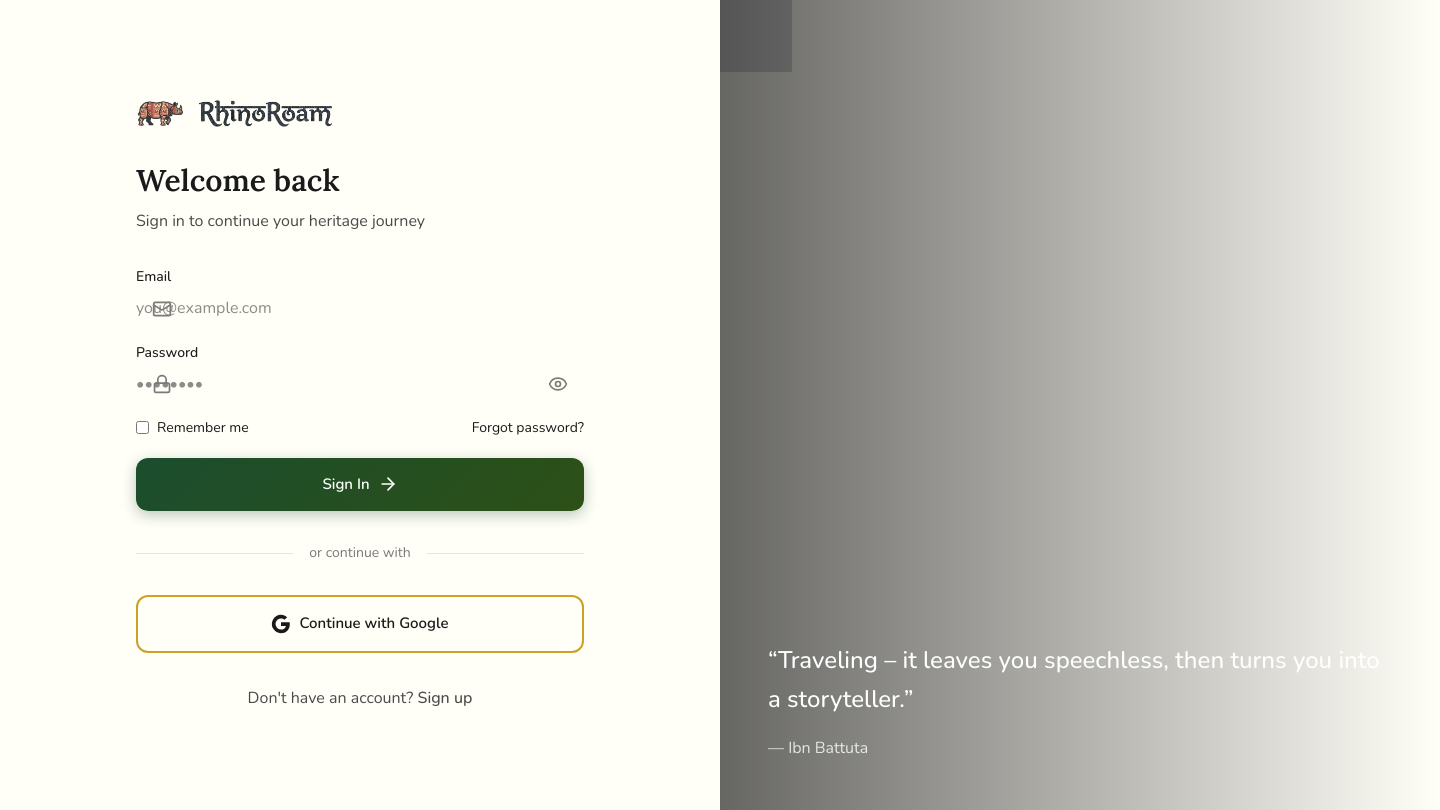
Test: SignInPage › displays error on failed login
The image size is (1440, 810).
Type "wrong@example.com" into the field with placeholder "you@example.com". click: (238, 309)
box: [136,295,340,322]
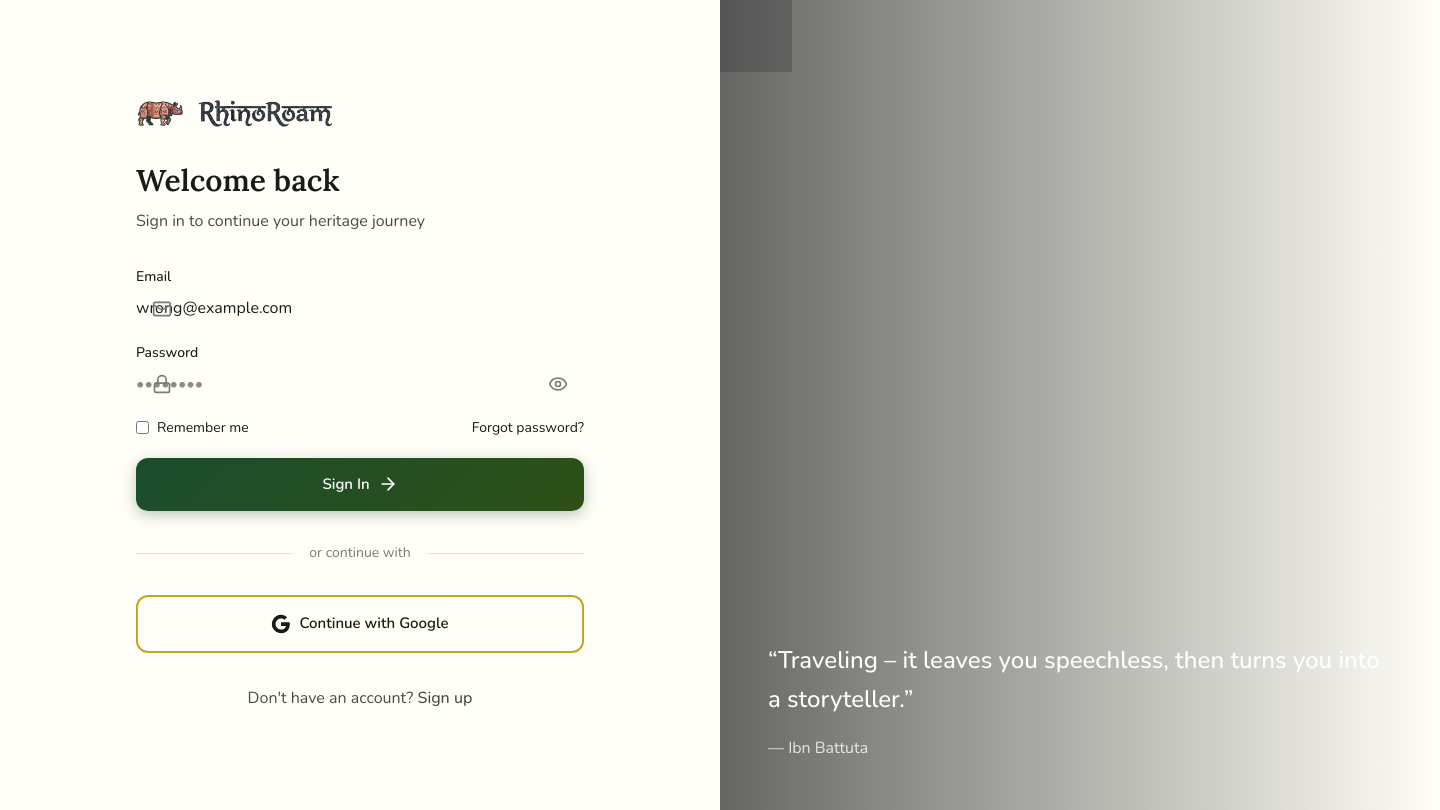
Type "wrongpass" into the password field with placeholder "••••••••". click: (238, 384)
box: [136,370,340,398]
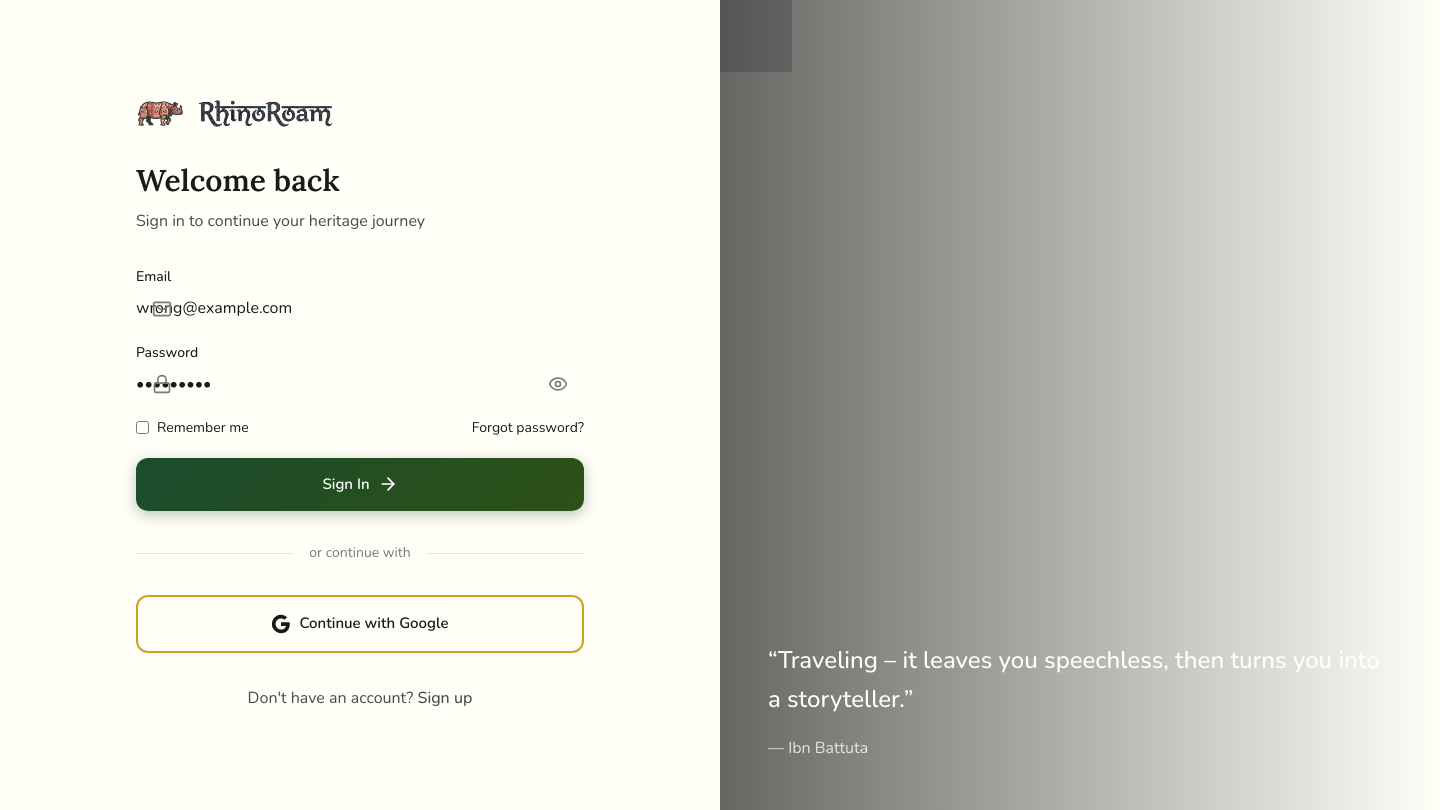
Click the button "Sign In". click: (360, 484)
box: [136,458,584,511]
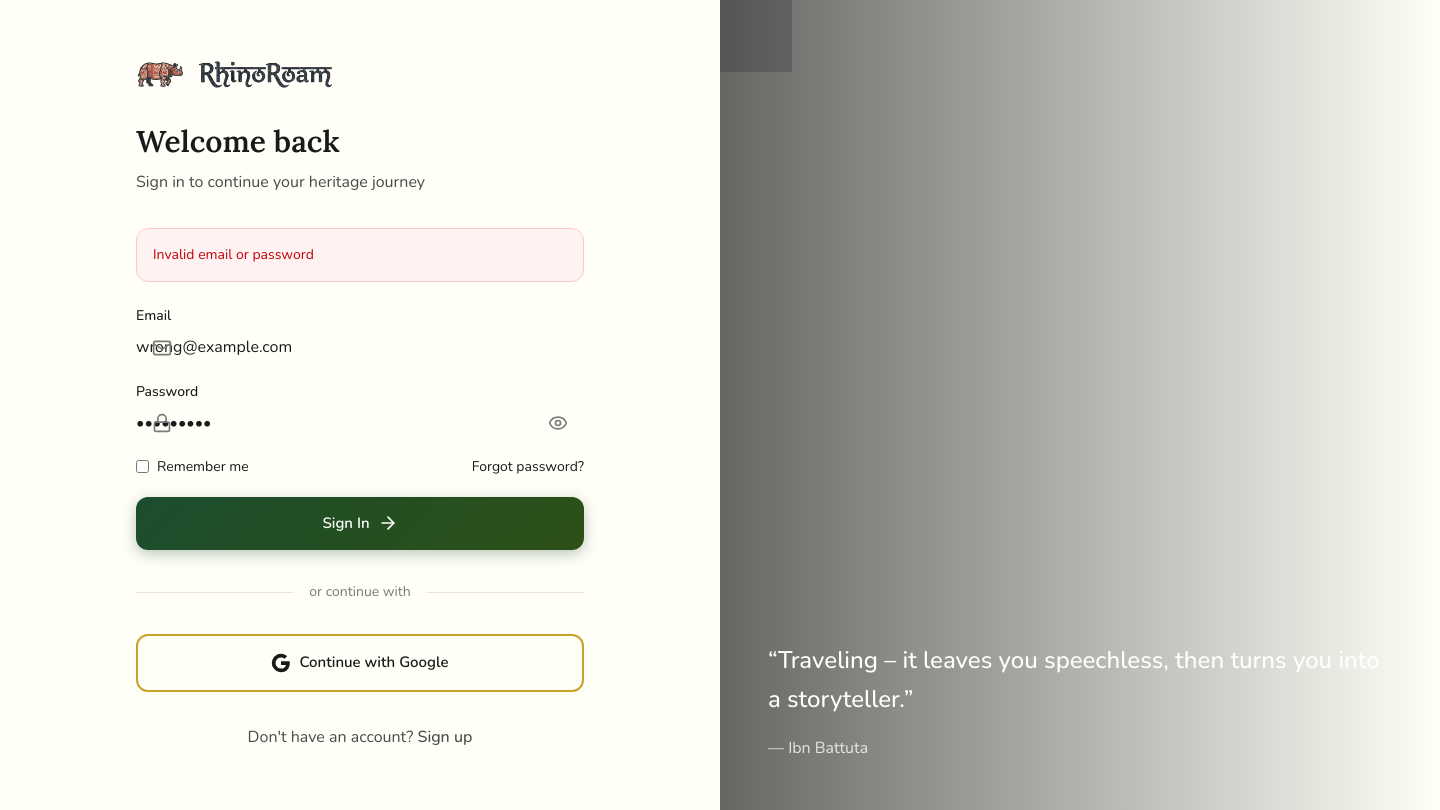
Expected: the text "Invalid email or password" is shown, [136,228,584,282]
